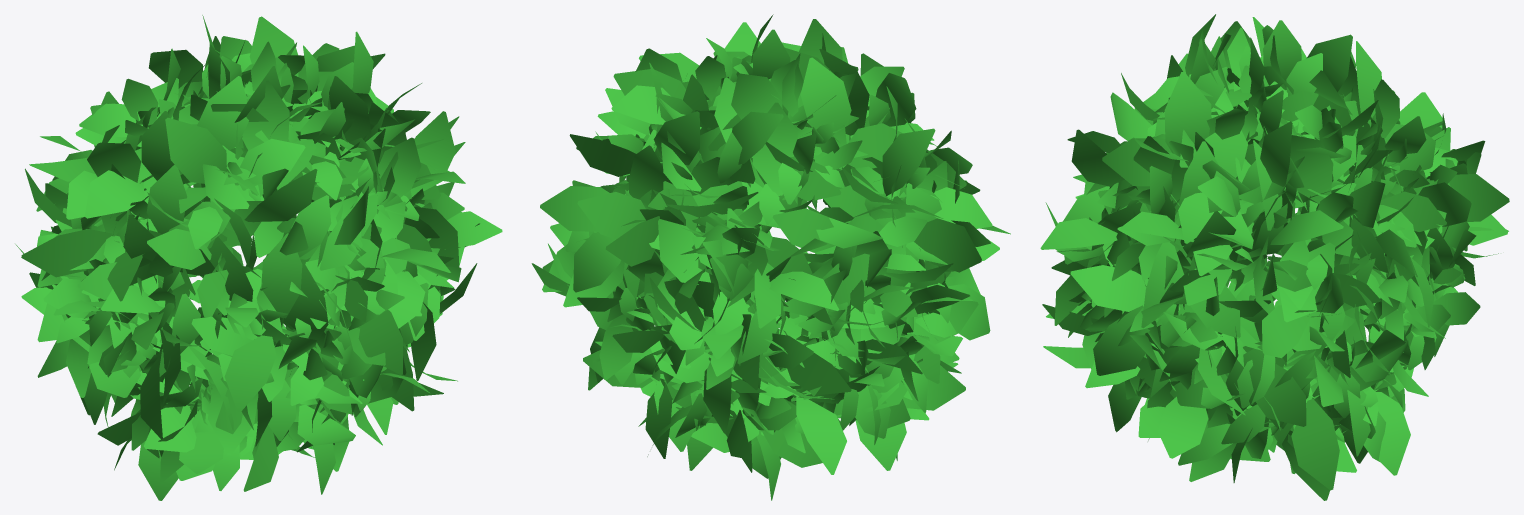
Rendered from bush.fbx.
3 renders of one model, left to right at view 1: azimuth 30°, elevation 25°; view 2: azimuth 150°, elevation 25°; view 3: azimuth 270°, elevation 25°, orthographic. The views are drawn at different scales.
Visible parts, largest first — view 1: Plane.125; view 2: Plane.125; view 3: Plane.125.
Boxes of the visible parts, <box> form: Plane.125: <box>15,15,502,500</box>; Plane.125: <box>531,14,1010,500</box>; Plane.125: <box>1040,14,1509,500</box>.
Size of the model in its own units: 1.64 by 1.62 by 1.54.
